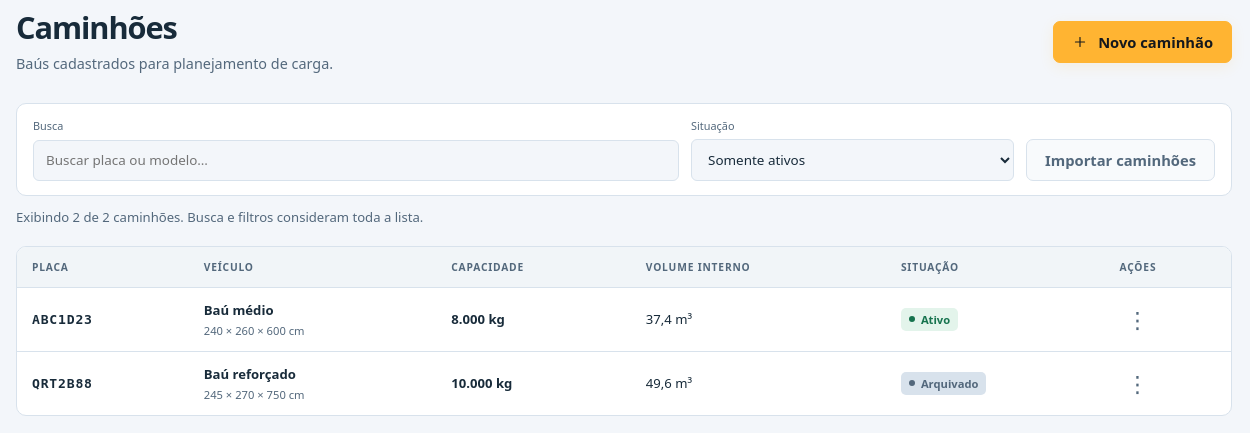
Test: TruckListPage › filtra por status
Expected: the text "ABC1D23" is shown, [32,312,93,327]
Select "Somente arquivados" in the dropdown named "Filtrar cadastros por arquivamento". click: {"x": 852, "y": 160}
box: [691,139,1014,181]
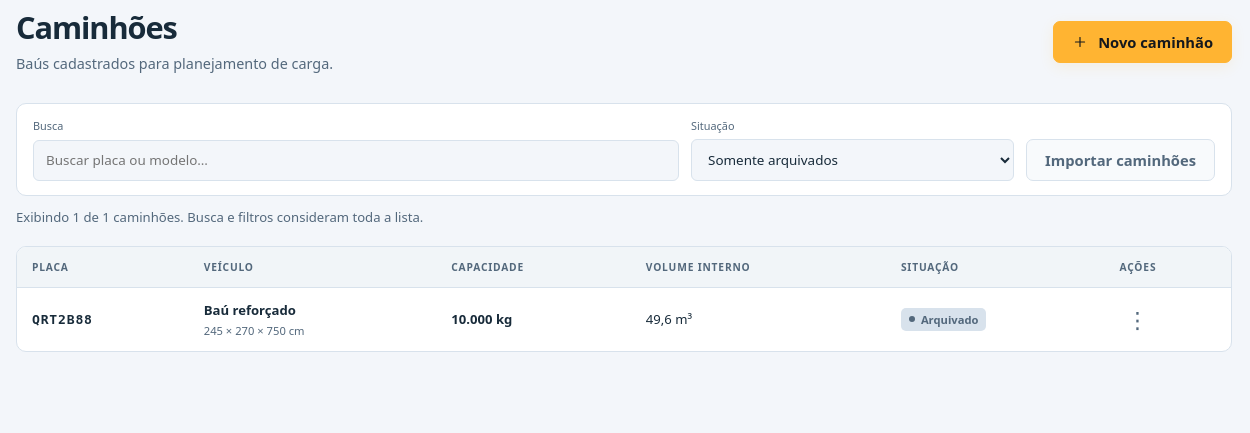
Expected: the text "QRT2B88" is shown, [32,312,93,327]
Now the text "ABC1D23" is gone
